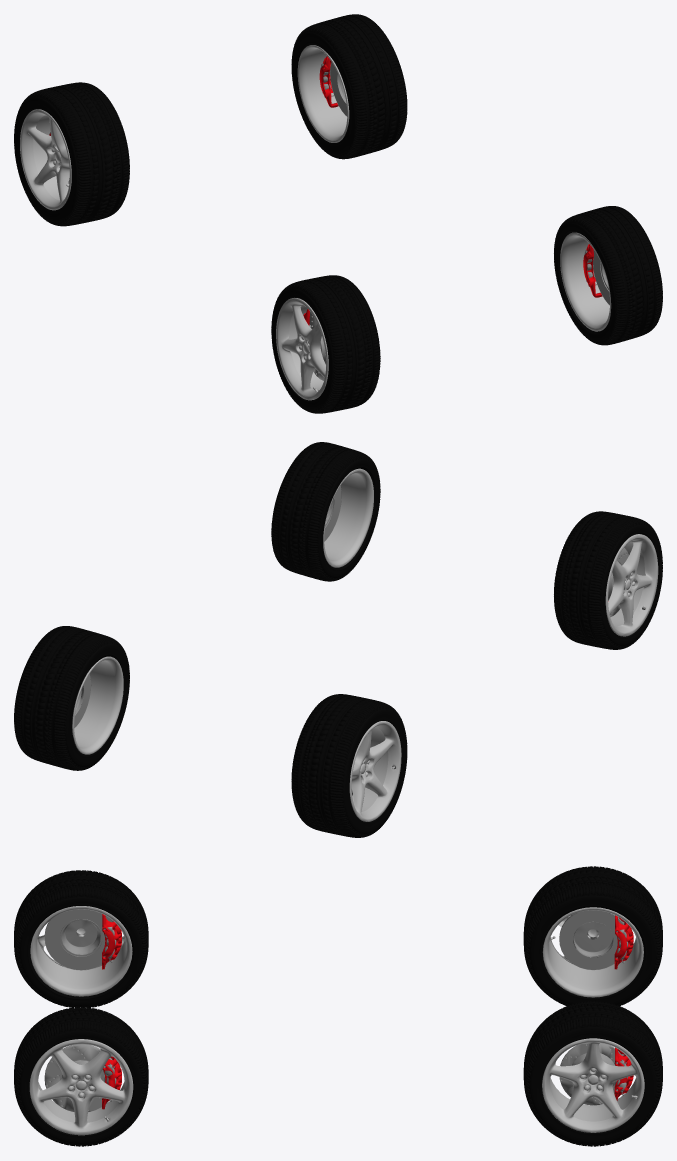
Rendered from VLEAP_CAR_Tire2.glb.
3 renders of one model, top to bottom at view 1: azimuth 30°, elevation 25°; view 2: azimuth 150°, elevation 25°; view 3: azimuth 270°, elevation 25°, orthographic.
Parts seen in each view (by area): view 1: 550|wheels-RR|rims, 550|wheels-RL|rims, 550|wheels-FR|rims, 550|wheels-FL|rims; view 2: 550|wheels-RR|rims, 550|wheels-RL|rims, 550|wheels-FR|rims, 550|wheels-FL|rims; view 3: 550|wheels-RL|rims, 550|wheels-RR|rims, 550|wheels-FR|rims, 550|wheels-FL|rims.
Part boxes in pixels (bbox=[...]): 550|wheels-RR|rims: bbox=[14, 82, 129, 226]; 550|wheels-RL|rims: bbox=[291, 14, 407, 159]; 550|wheels-FR|rims: bbox=[271, 275, 380, 413]; 550|wheels-FL|rims: bbox=[554, 206, 662, 345]; 550|wheels-RR|rims: bbox=[291, 694, 407, 837]; 550|wheels-RL|rims: bbox=[14, 626, 129, 770]; 550|wheels-FR|rims: bbox=[554, 511, 662, 649]; 550|wheels-FL|rims: bbox=[271, 442, 380, 581]; 550|wheels-RL|rims: bbox=[523, 1001, 662, 1146]; 550|wheels-RR|rims: bbox=[523, 866, 662, 1005]; 550|wheels-FR|rims: bbox=[14, 870, 148, 1007]; 550|wheels-FL|rims: bbox=[14, 1007, 148, 1146].
Size of the model in its own units: 1.88 by 0.6822 by 3.16.
